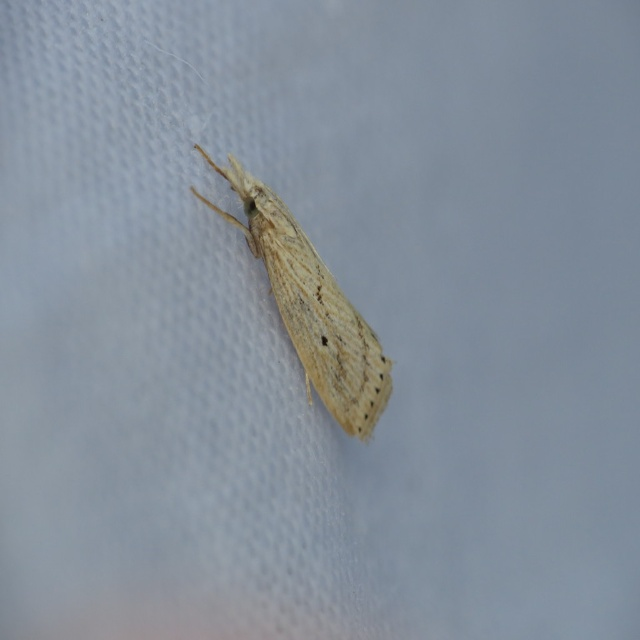Moths and butterflies: (192, 146, 399, 446)
